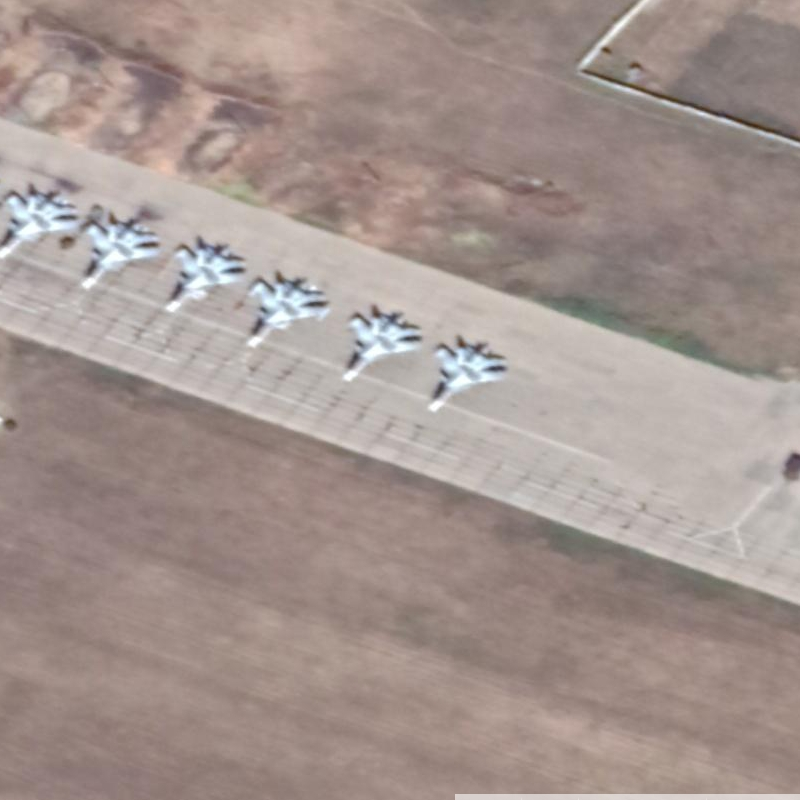A19: (243, 276, 334, 350), (339, 311, 423, 384), (77, 218, 162, 290), (426, 342, 508, 415), (1, 189, 80, 263), (163, 243, 243, 315)
